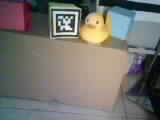duck: (72, 8, 120, 58)
